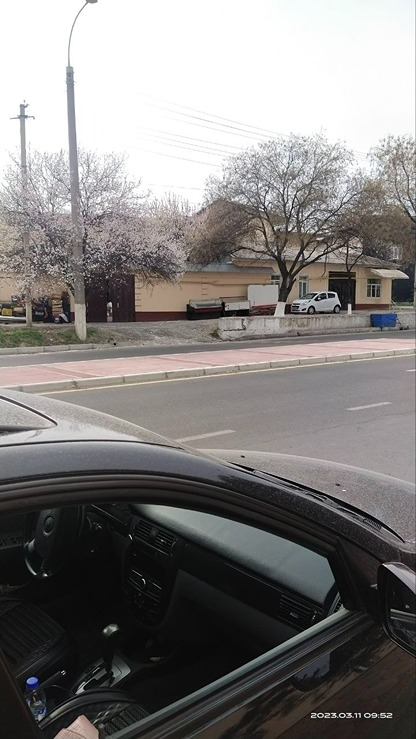car: (293, 291, 344, 320)
tree: (192, 135, 372, 319), (2, 140, 158, 328)
